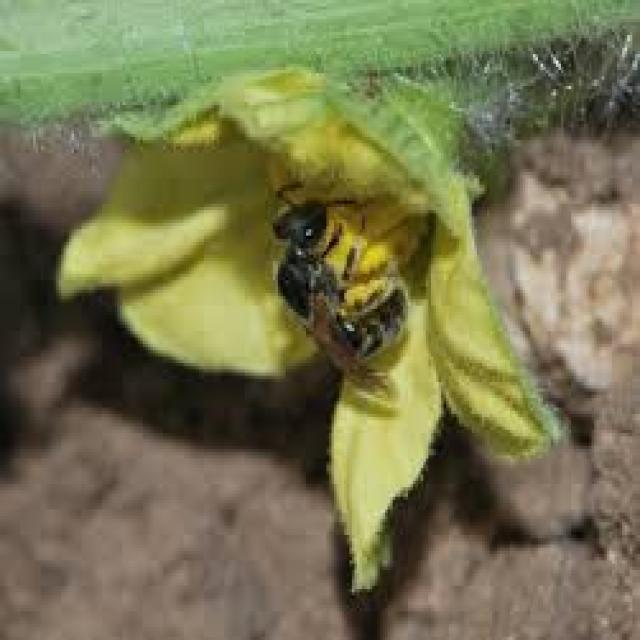Lasioglossum: (257, 173, 432, 405)
